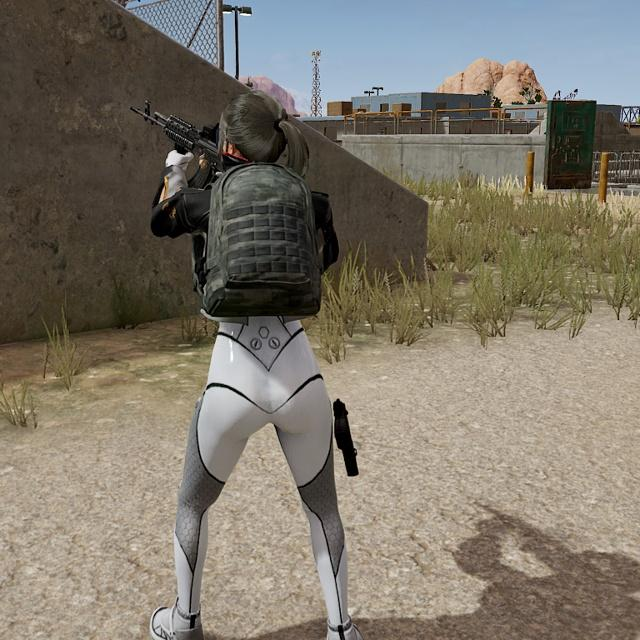head: (214, 89, 291, 172)
people: (144, 80, 372, 640)
